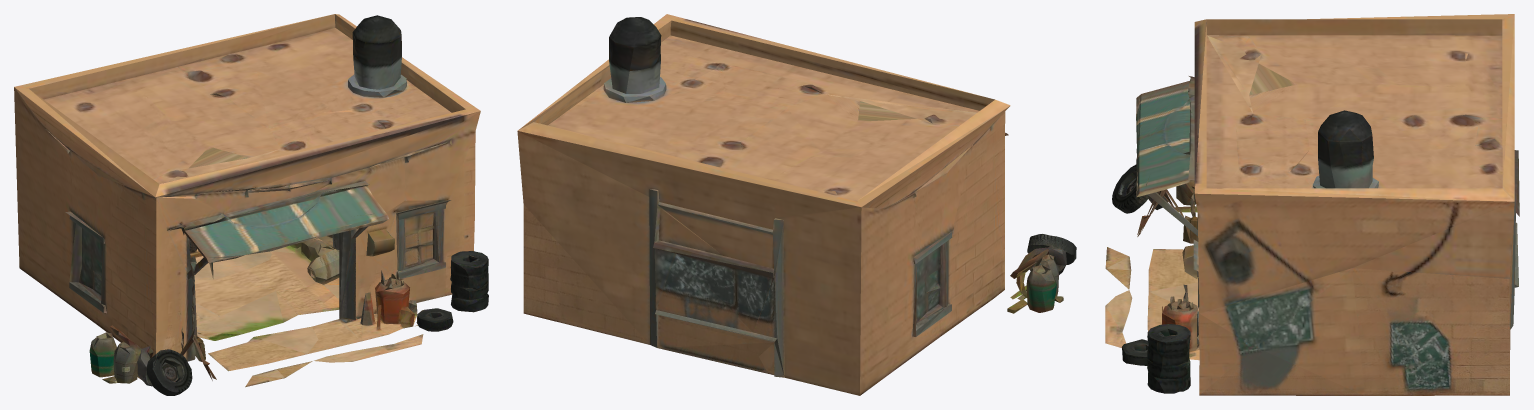
The model's file is militia_weapons_workshop.glb.
3 renders of one model, left to right at view 1: azimuth 30°, elevation 25°; view 2: azimuth 150°, elevation 25°; view 3: azimuth 270°, elevation 25°, orthographic. The views are drawn at different scales.
Parts seen in each view (by area): view 1: wall, roof; view 2: wall, roof; view 3: wall, roof.
Part boxes in pixels (bbox=[...]): wall: bbox=[14, 14, 488, 395]; roof: bbox=[14, 14, 480, 198]; wall: bbox=[517, 20, 1076, 395]; roof: bbox=[517, 14, 1010, 220]; wall: bbox=[1105, 19, 1519, 395]; roof: bbox=[1194, 14, 1514, 201].
Bounding box in the file's own units: 6 × 3.57 × 5.04.
1 material, 1 textured.
